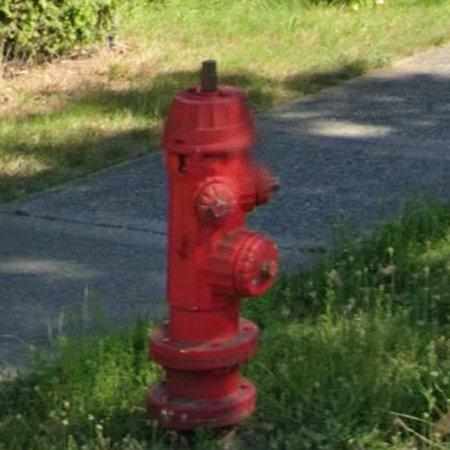a fire hydrant: (148, 60, 279, 432)
